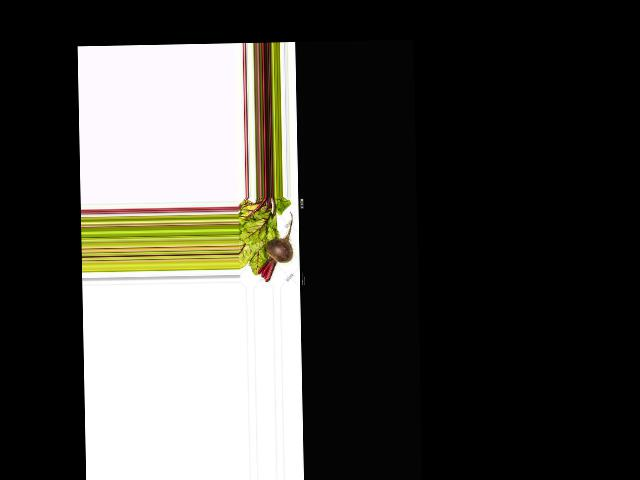beet: (256, 212, 294, 282)
